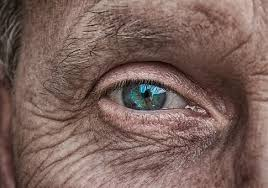pupil: (121, 80, 167, 111)
